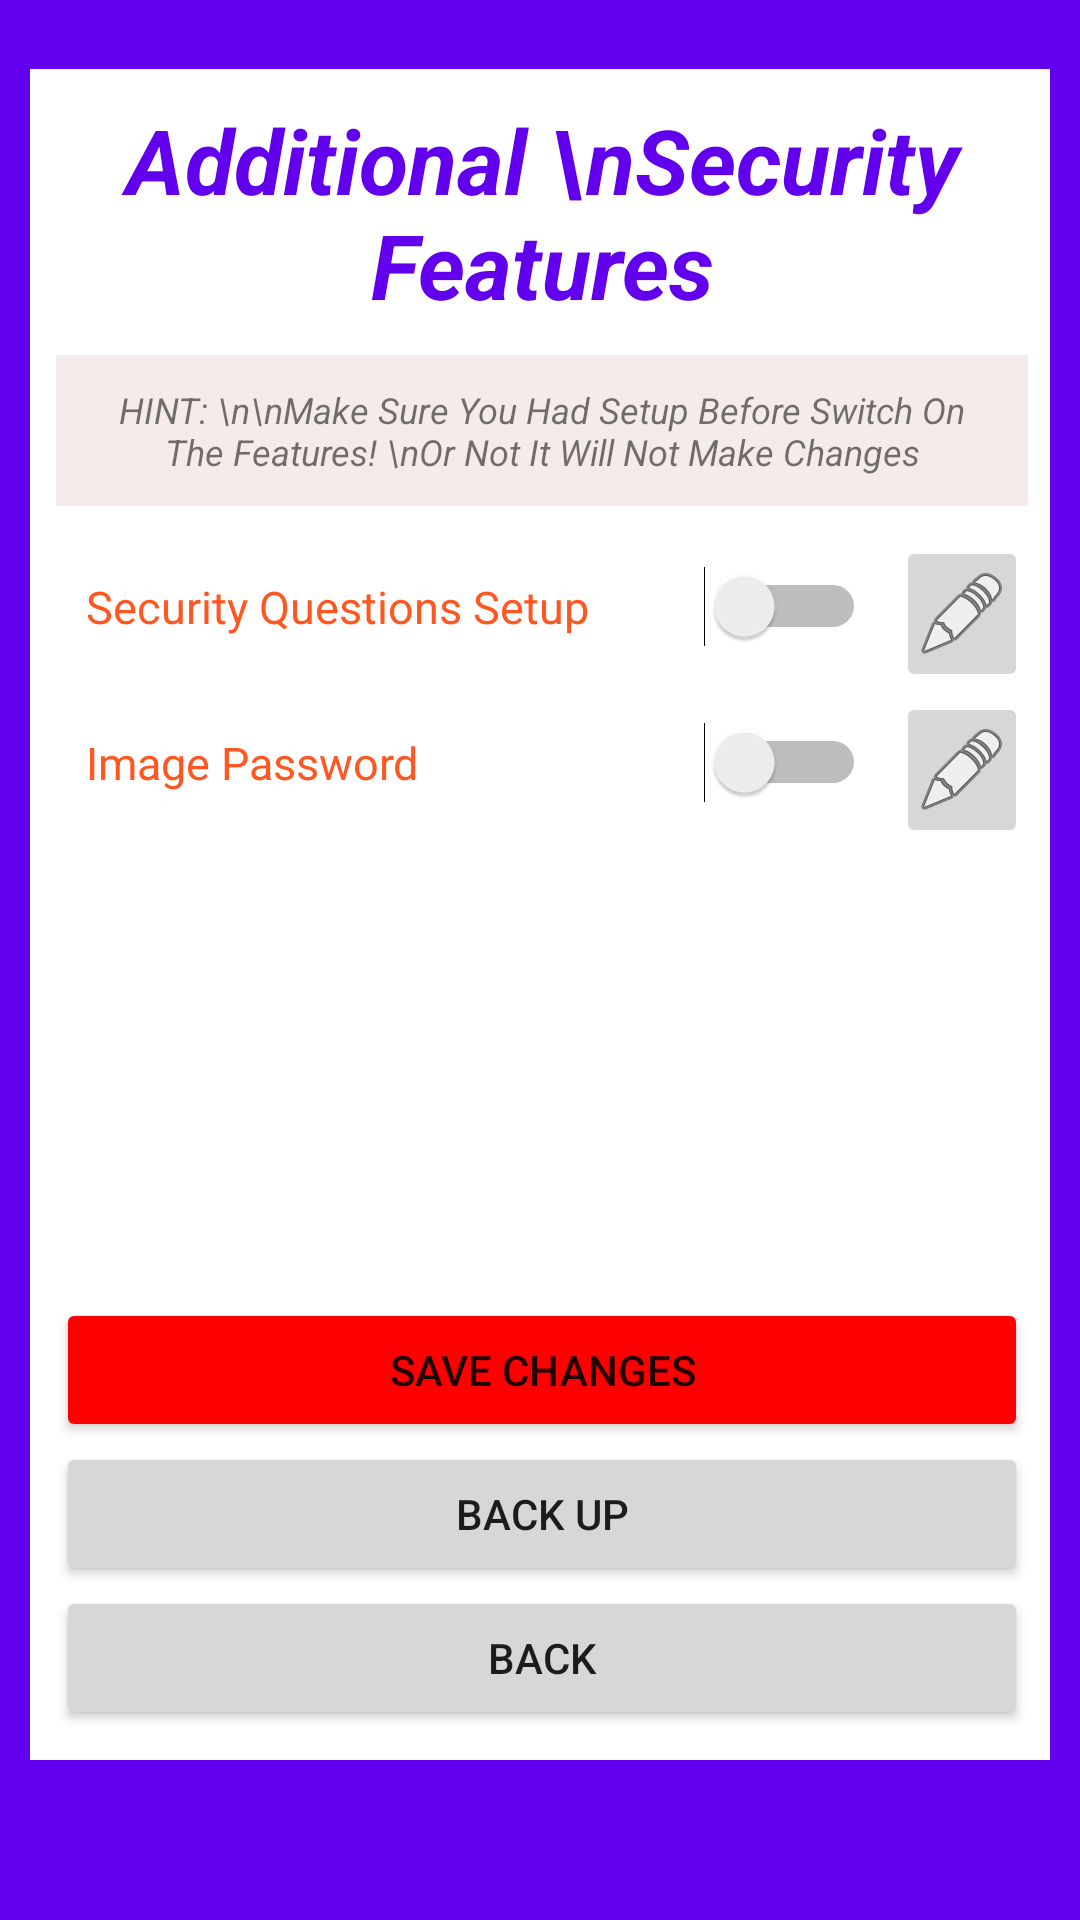

Icons on this 1080px x 1920px Android screen, each with the point to tap as (x,y):
edit: (962,614), (962,770)
